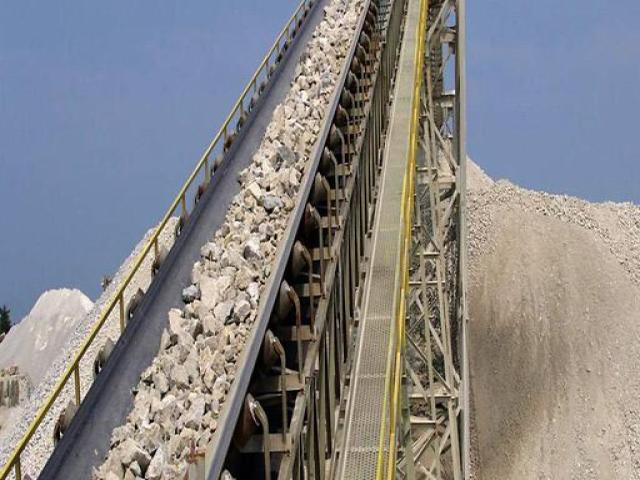conveyor: (0, 0, 470, 479)
